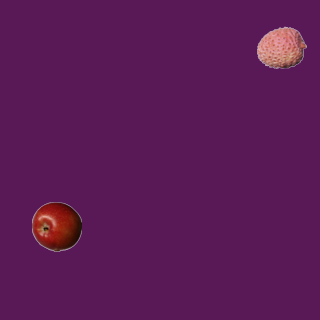Apple Braeburn: (31, 201, 81, 251)
Lychee: (256, 22, 306, 72)
